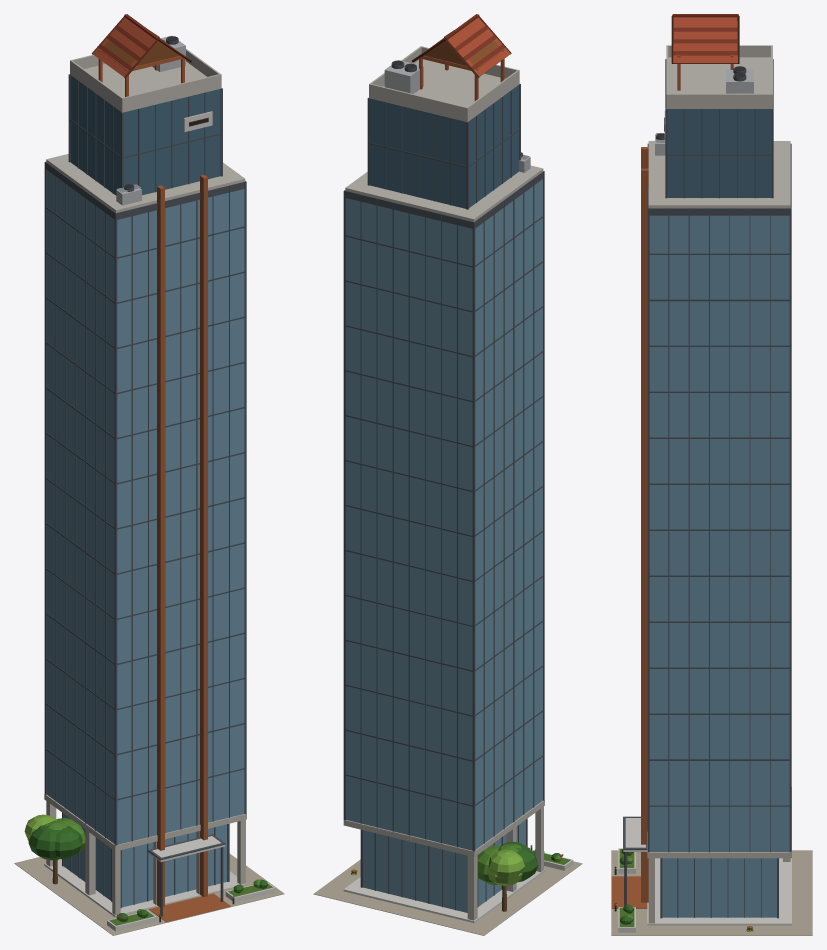
The model's file is shop_4.glb.
The picture shows the model from 3 angles, left to right: view 1: azimuth 30°, elevation 25°; view 2: azimuth 150°, elevation 25°; view 3: azimuth 270°, elevation 25°; orthographic projection. The views are drawn at different scales.
Visible parts, largest first — view 1: body; view 2: body; view 3: body.
Boxes of the visible parts, <box> form: body: <box>14,14,284,935</box>; body: <box>313,14,582,935</box>; body: <box>611,14,812,935</box>.
Bounding box in the file's own units: 17.42 × 76.28 × 15.9.
